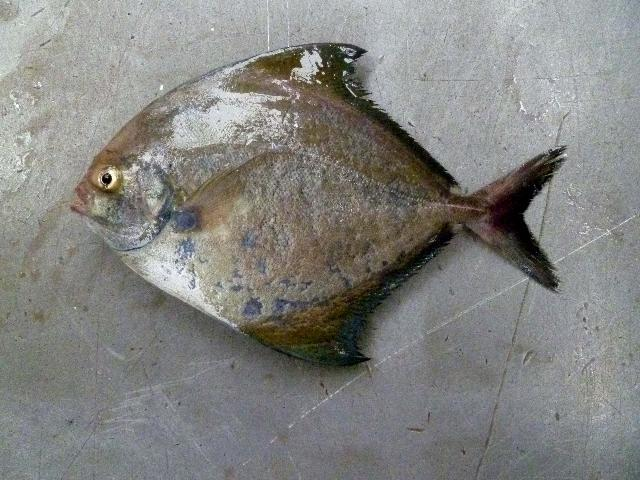Mulut: (54, 160, 114, 248)
Sirip Anal: (353, 210, 461, 318)
Sirip Dada: (144, 134, 310, 255)
Sirip Ekor: (455, 132, 579, 310)
Sirip Perut: (227, 306, 395, 392)
Sirip Punggung: (231, 31, 465, 196)
